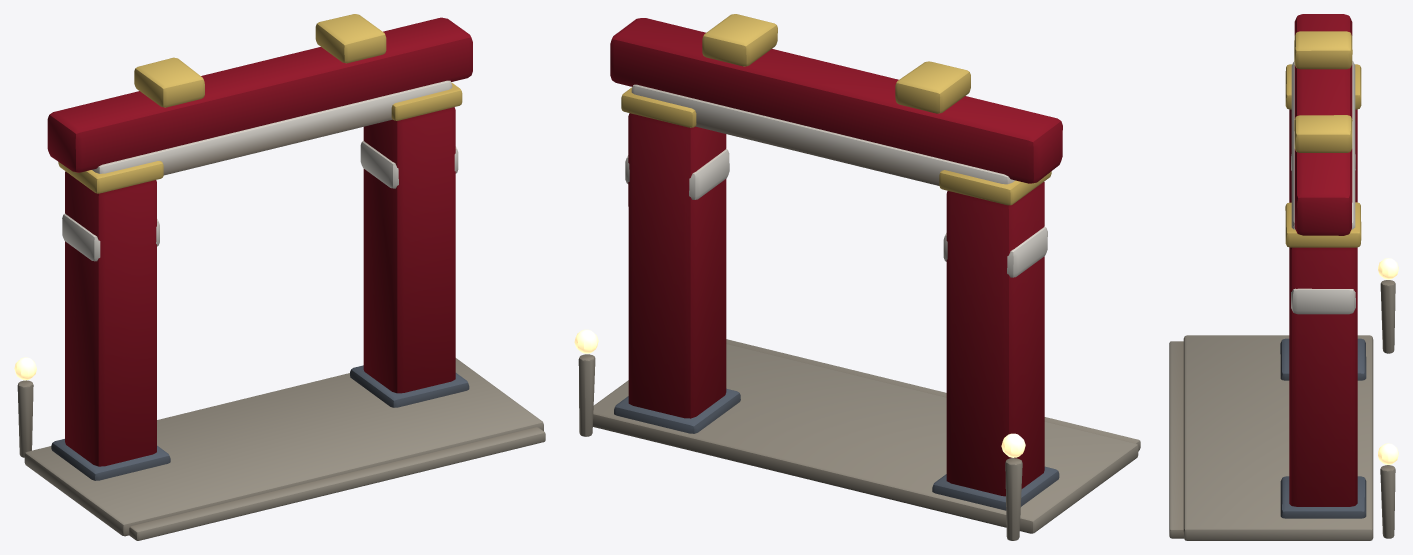
3 renders of one model, left to right at view 1: azimuth 30°, elevation 25°; view 2: azimuth 150°, elevation 25°; view 3: azimuth 270°, elevation 25°, orthographic. The views are drawn at different scales.
Visible parts, largest first — view 1: gate_21731bc3; view 2: gate_21731bc3; view 3: gate_21731bc3.
Part boxes in pixels (box(x1,y1,x2,y2)): gate_21731bc3: box(14, 14, 545, 540); gate_21731bc3: box(574, 14, 1140, 540); gate_21731bc3: box(1169, 14, 1398, 540).
Size of the model in its own units: 5.12 by 4.45 by 2.54.
